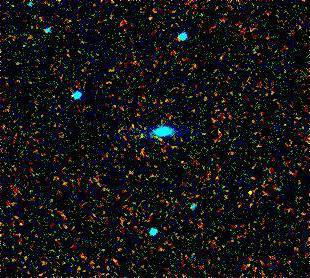star: (236, 183, 266, 213)
